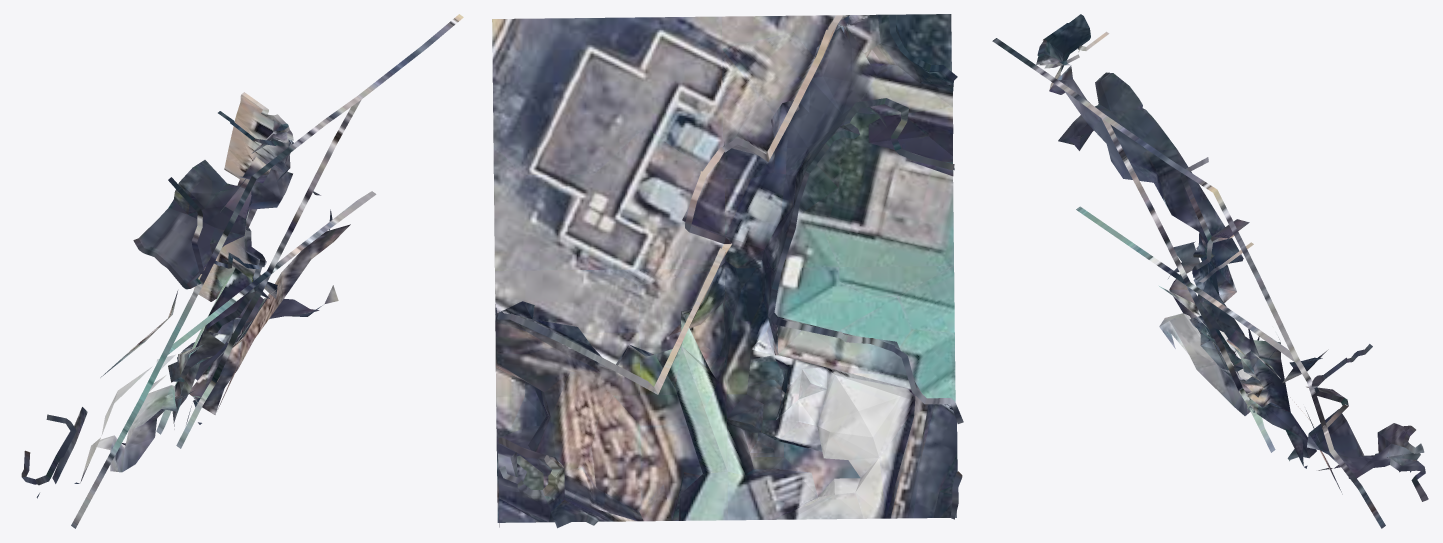
3 views of the same model, side by side, from view 1: azimuth 30°, elevation 25°; view 2: azimuth 150°, elevation 25°; view 3: azimuth 270°, elevation 25° (orthographic). The views are drawn at different scales.
Bounding box in the file's own units: 40.84 × 37.15 × 35.85.
Materials: 2 (2 with a texture image).
